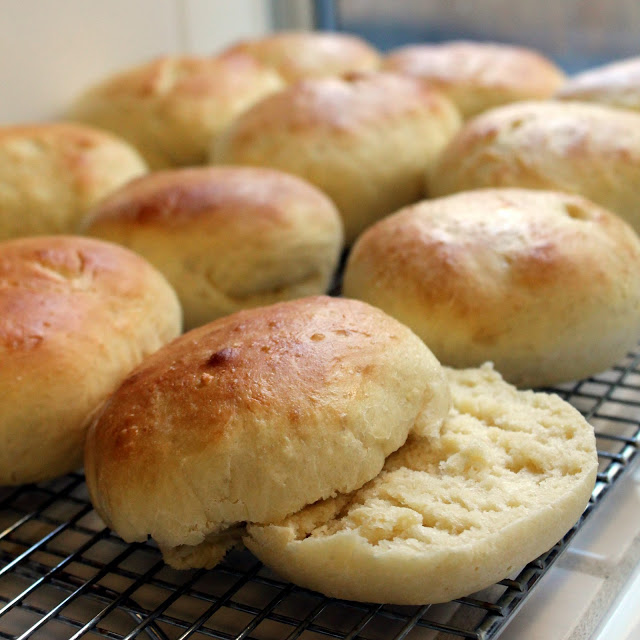hamburger_buns: (99, 286, 609, 591), (65, 122, 387, 395), (352, 178, 640, 390)
